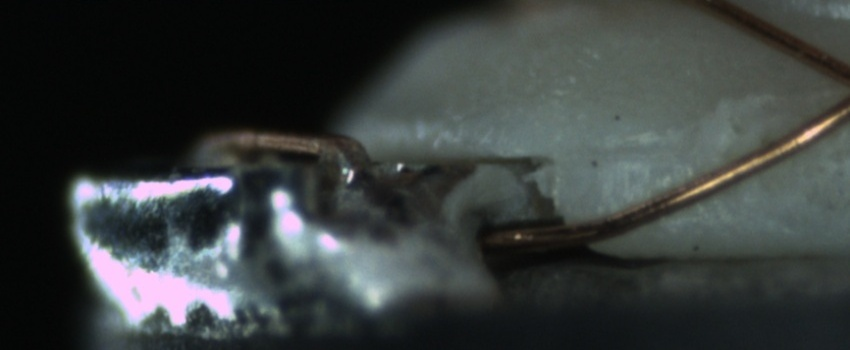DL: (584, 122, 694, 186)
TE: (184, 124, 371, 170)
